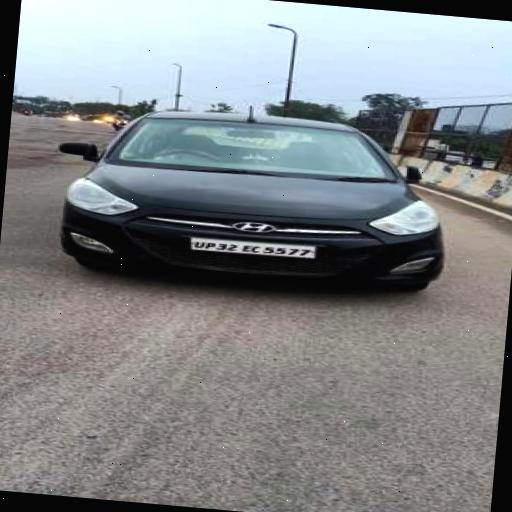license_plate`: (185, 232, 314, 260)
